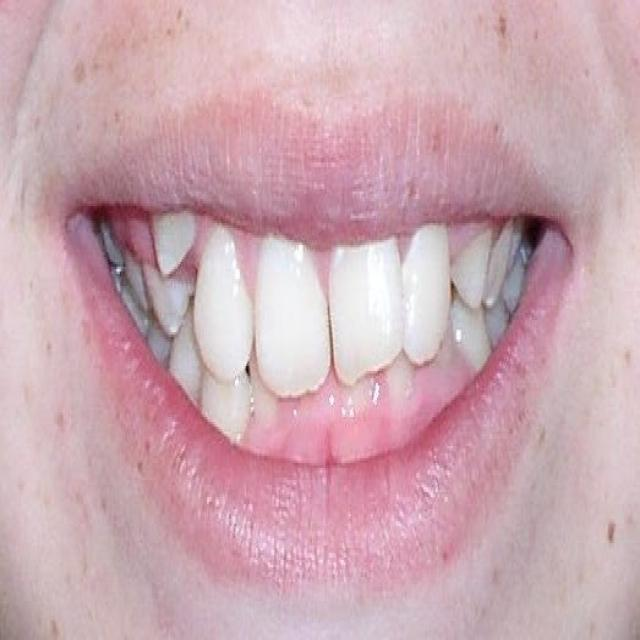tooth: (261, 257, 319, 395), (340, 245, 399, 378), (209, 356, 250, 432), (203, 247, 240, 318), (411, 218, 436, 315), (157, 206, 186, 264), (176, 318, 202, 378), (460, 238, 485, 300), (150, 262, 178, 315), (490, 235, 506, 284)
